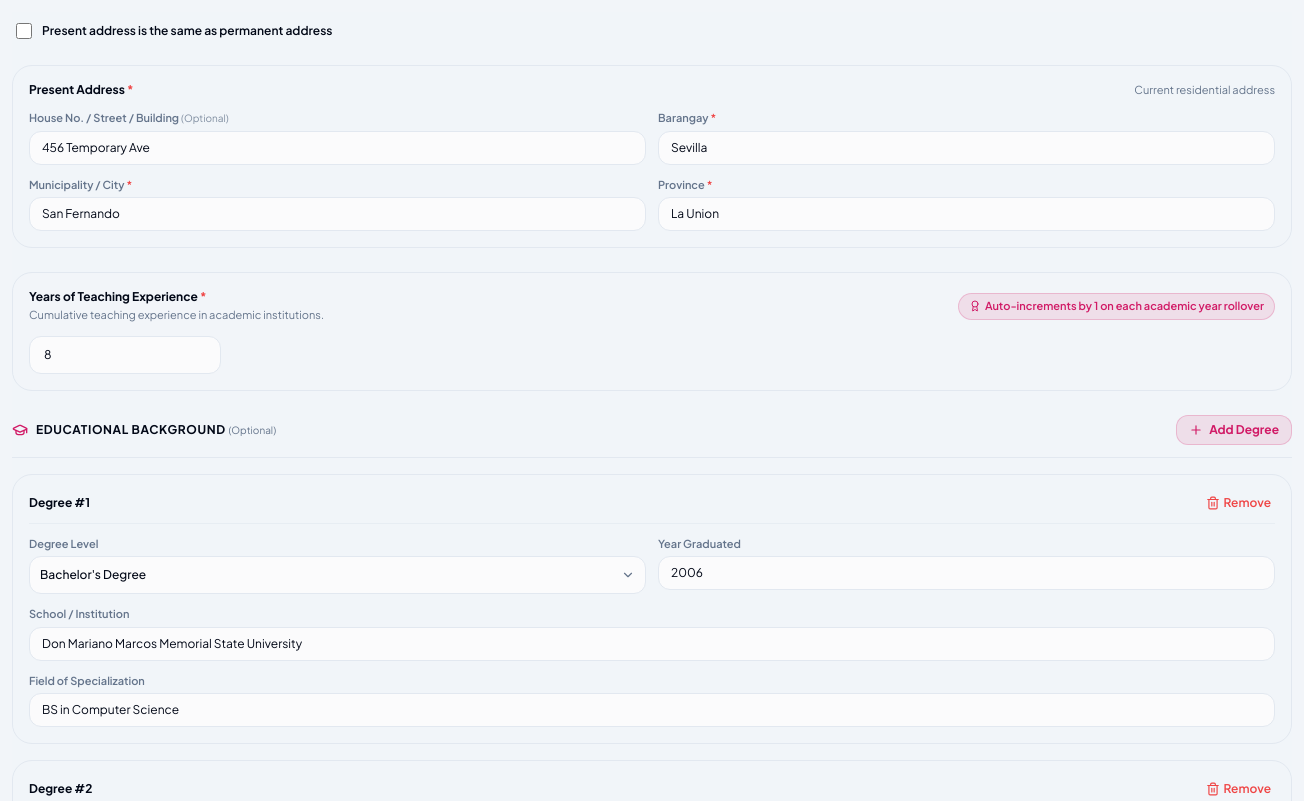
Scenario: FacultyProfileForm Component › mirrors permanent address and disables present address when sameAsPermanentAddress is checked
(page scrolled)
Expected: the field named "present house/street" is enabled, [29,130,646,164]
Expected: the field named "present house/street" holds "456 Temporary Ave", [29,130,646,164]
// Check the box
Click the checkbox labelled "Present address is the same as permanent address" at (24, 30), box [16,22,32,38]
(page scrolled)
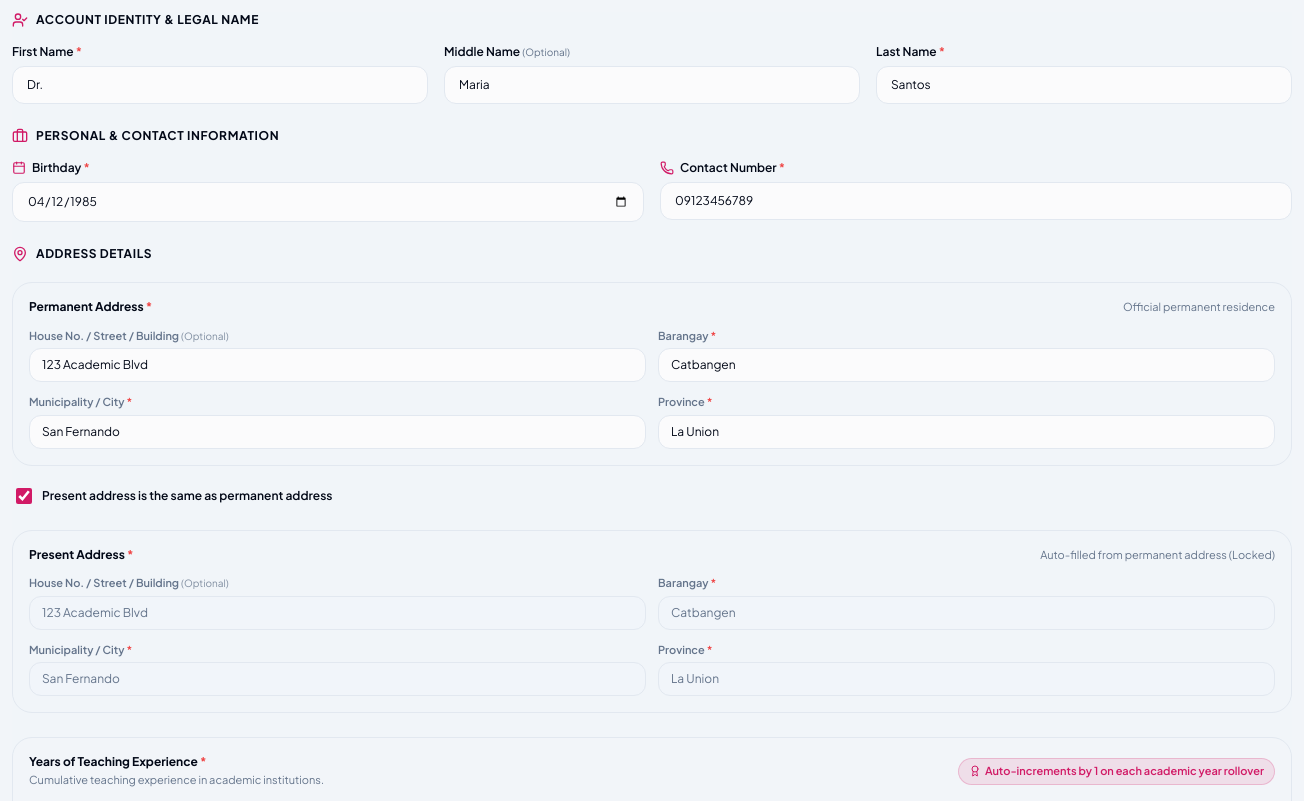
Result: the checkbox labelled "Present address is the same as permanent address" is checked at [16,488,32,504]
Result: the field named "present house/street" is disabled at [29,596,646,630]
Result: the field named "present house/street" holds "123 Academic Blvd" at [29,596,646,630]
// Modifying permanent address updates present address while checked
Replace the text in the field named "permanent house/street" with "789 Professor Way" at (338, 365), box [29,348,646,382]
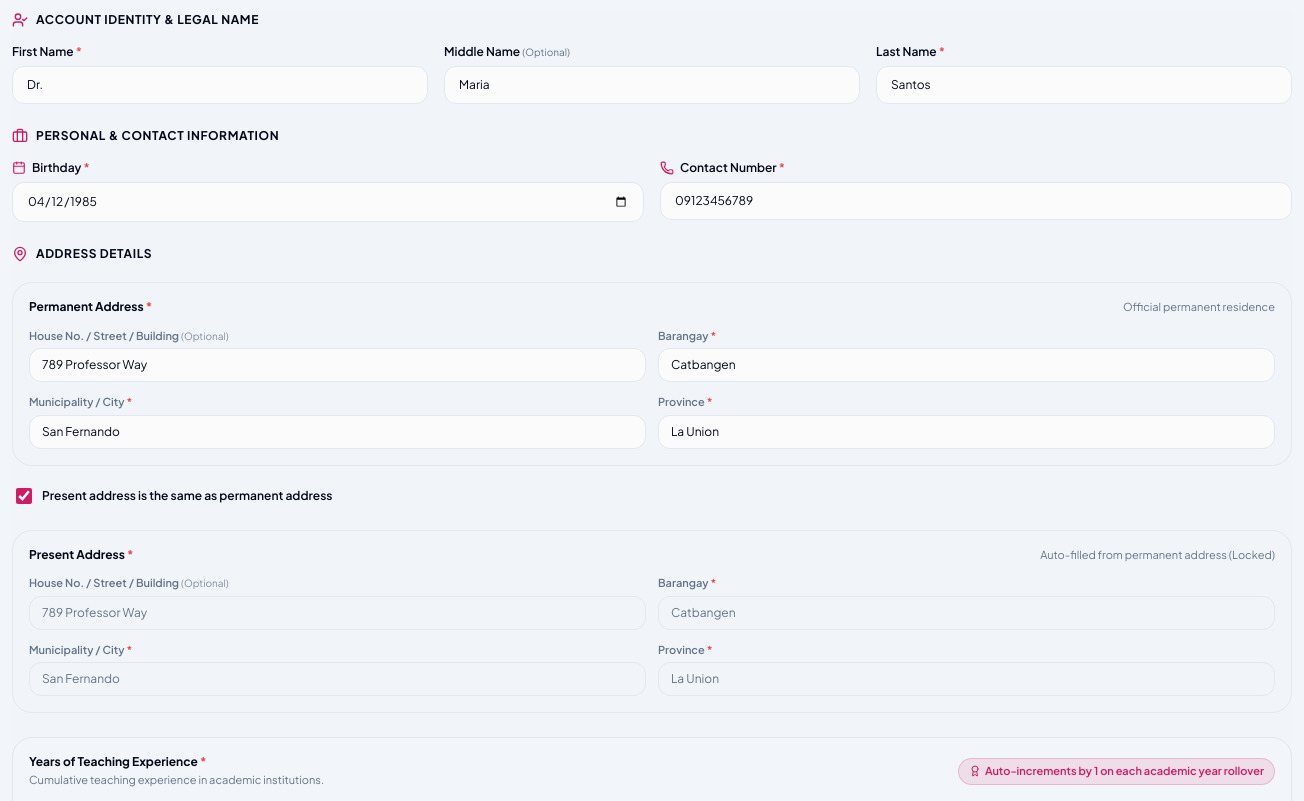
Result: the field named "present house/street" holds "789 Professor Way" at [29,596,646,630]
// Unchecking re-enables present address
Click the checkbox labelled "Present address is the same as permanent address" at (24, 496), box [16,488,32,504]
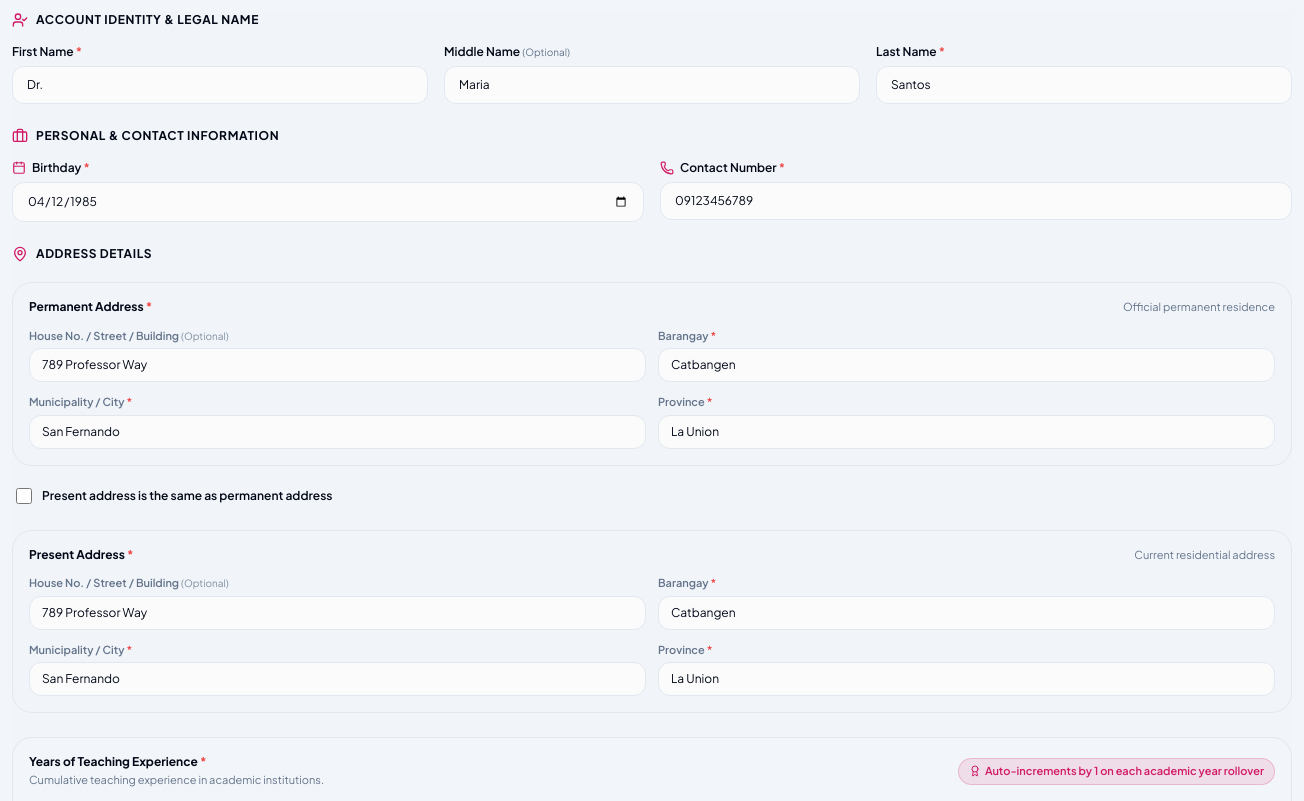
Result: the checkbox labelled "Present address is the same as permanent address" is not checked at [16,488,32,504]
Result: the field named "present house/street" is enabled at [29,596,646,630]
